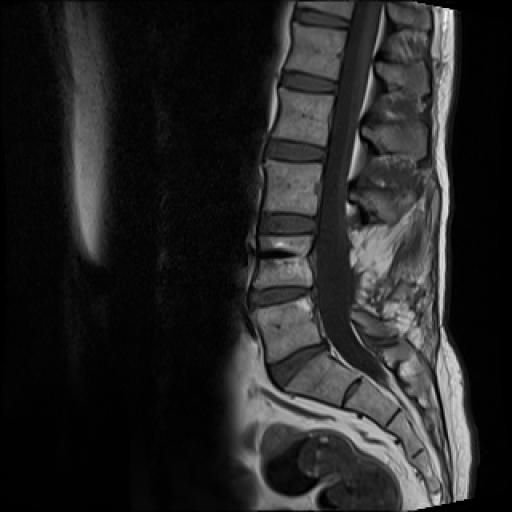L1: (285, 22, 347, 80)
L2: (272, 87, 334, 146)
L3: (263, 160, 322, 216)
L4: (252, 234, 314, 291)
L5: (256, 296, 322, 364)
S1: (284, 354, 358, 406)
